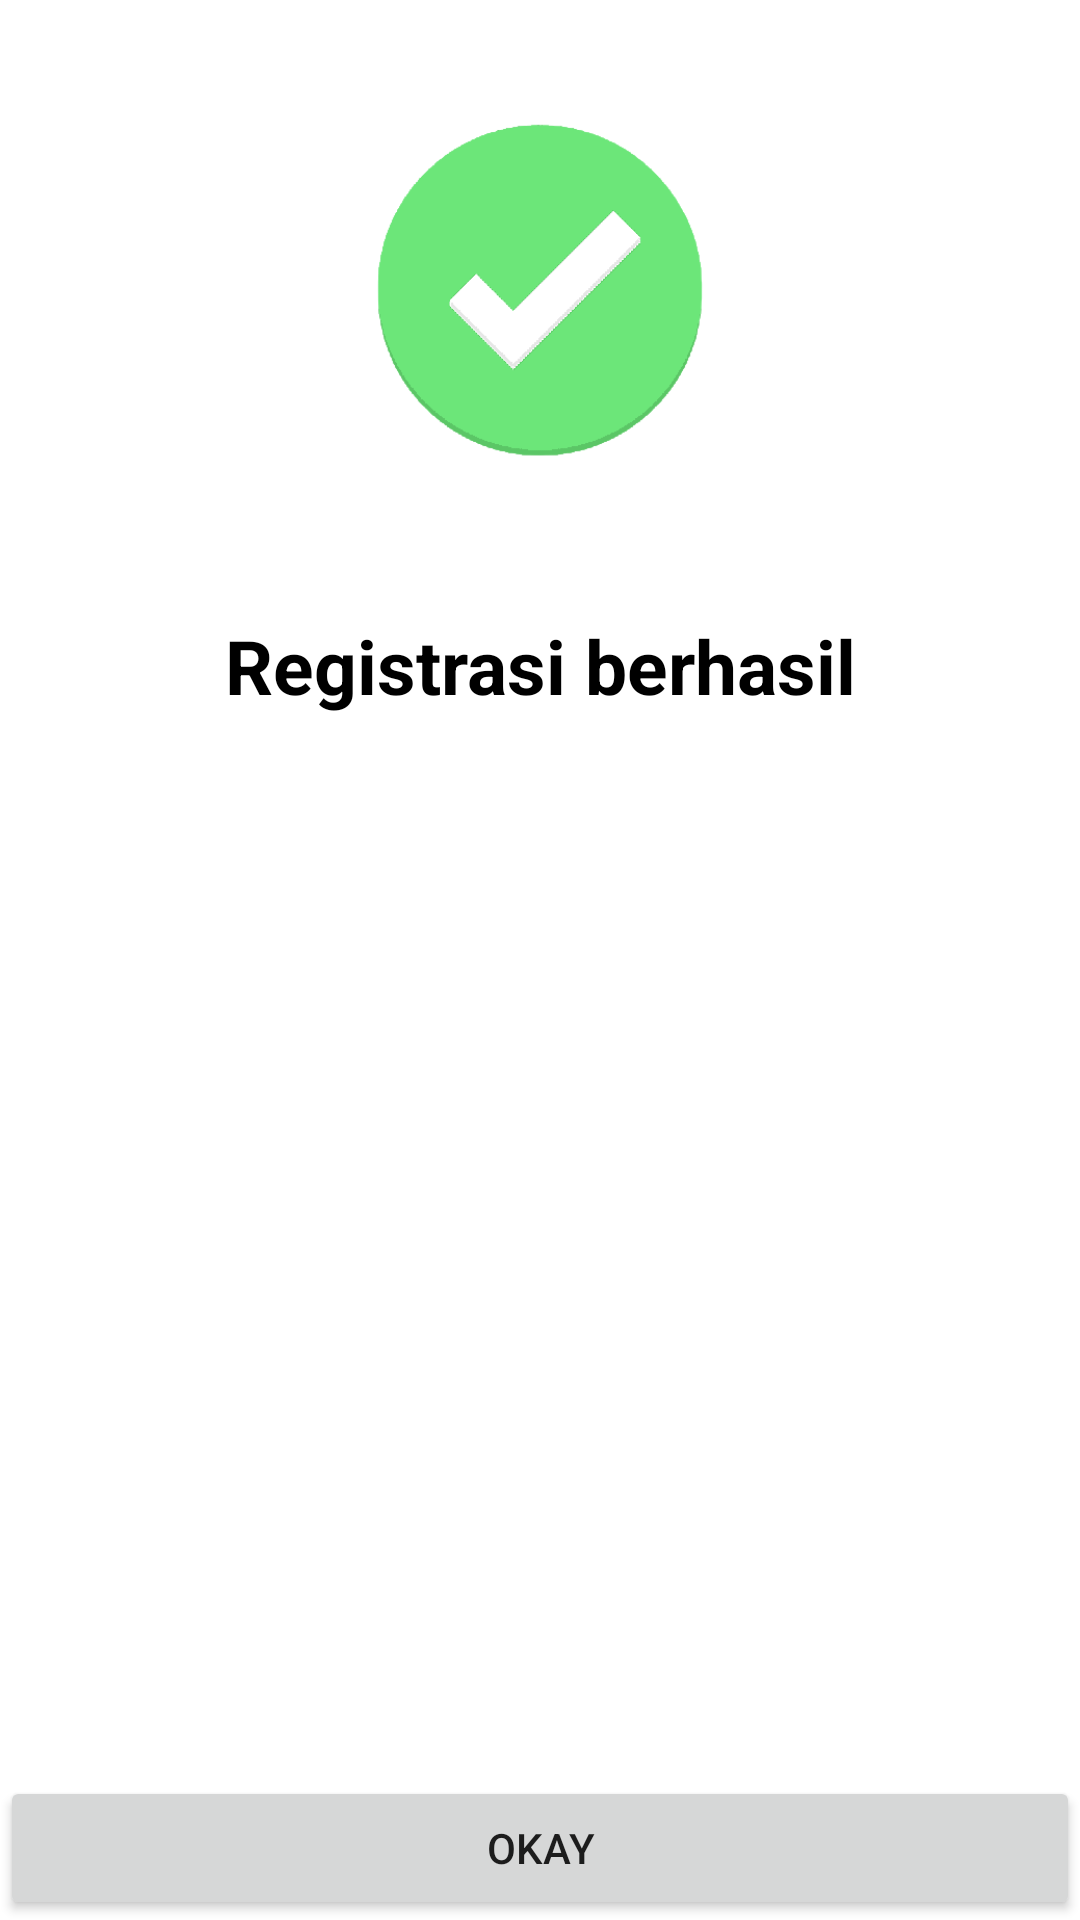

Where to tap for icons on this 1080×1920 app screen, as (x=x, y=y):
centang berhasil: (x=540, y=290)
